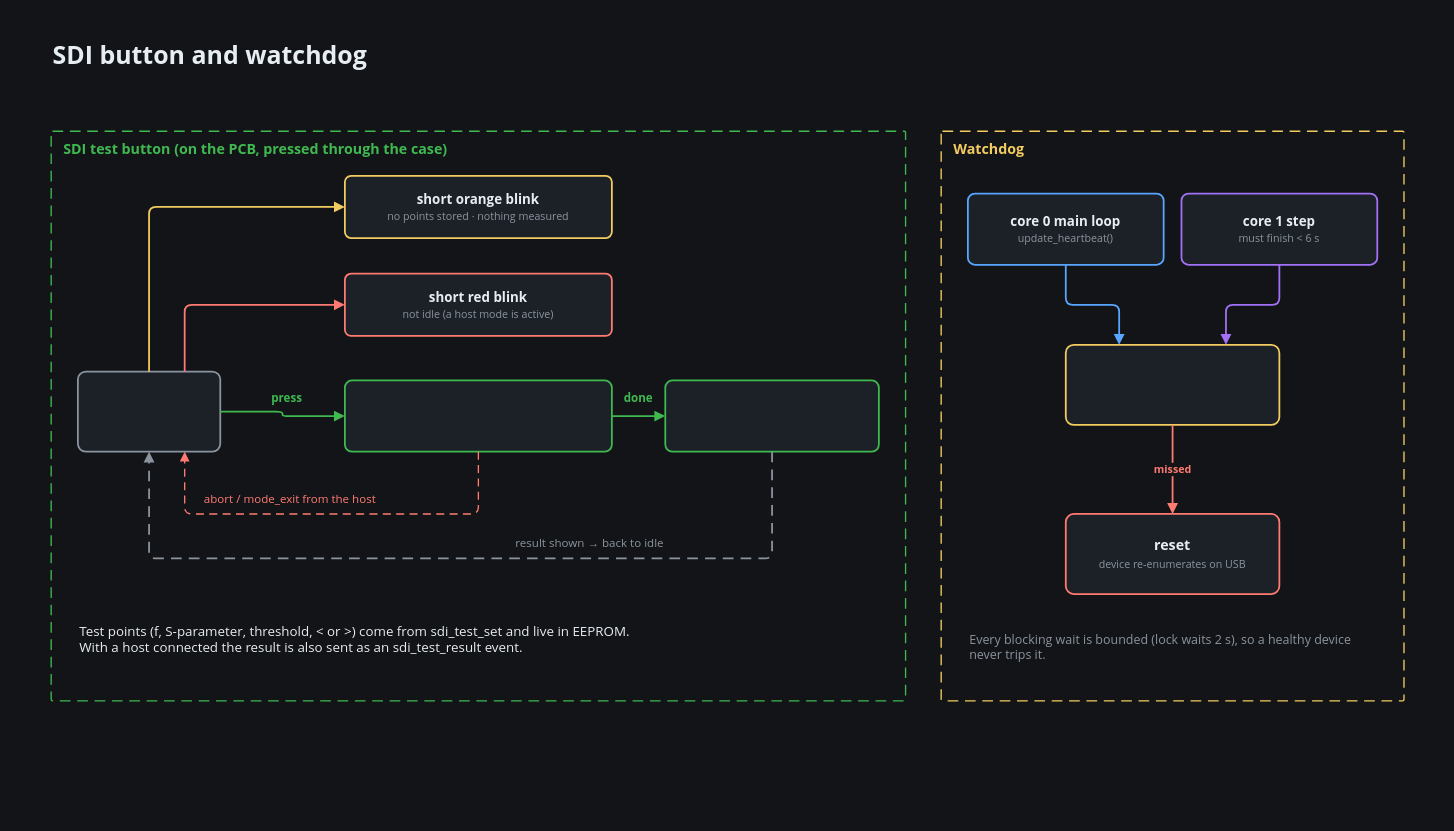
This 1454x831 diagram has some shape labels left out. The shapes that lost their labels are listed below. From the top down, each one's centre as x and y in pixels, then its label:
At point 1172,384: "watchdog RP2350 hardware timer".
At point 149,411: "IDLE".
At point 478,415: "SWEEPING sweep mode · atten 0 · z 75".
At point 771,415: "SHOWING green / red blink per test point".
